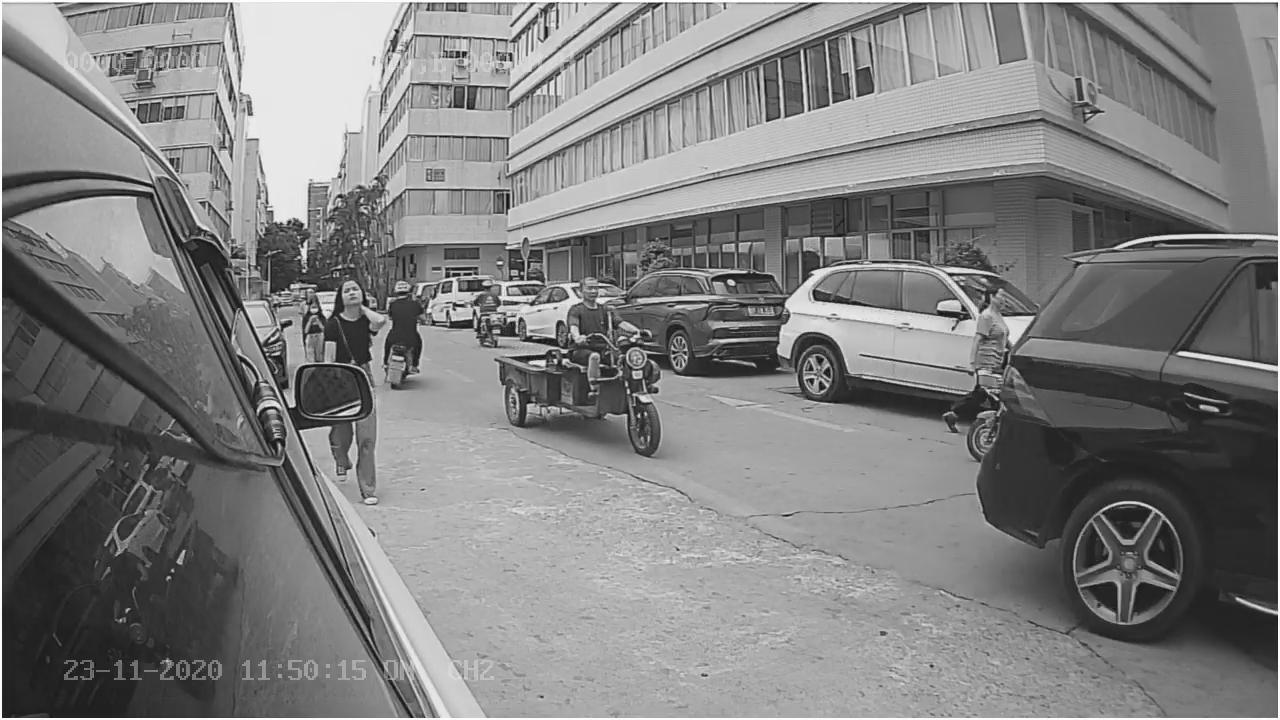person: (317, 273, 392, 356)
